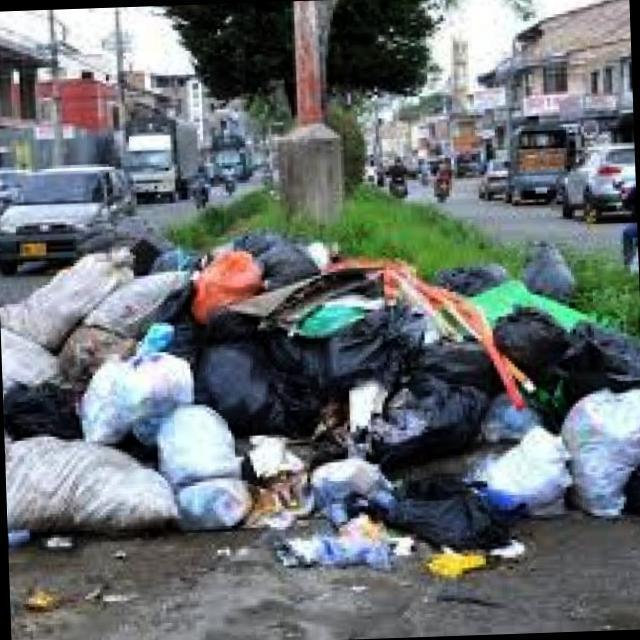garbage: (0, 207, 640, 595)
